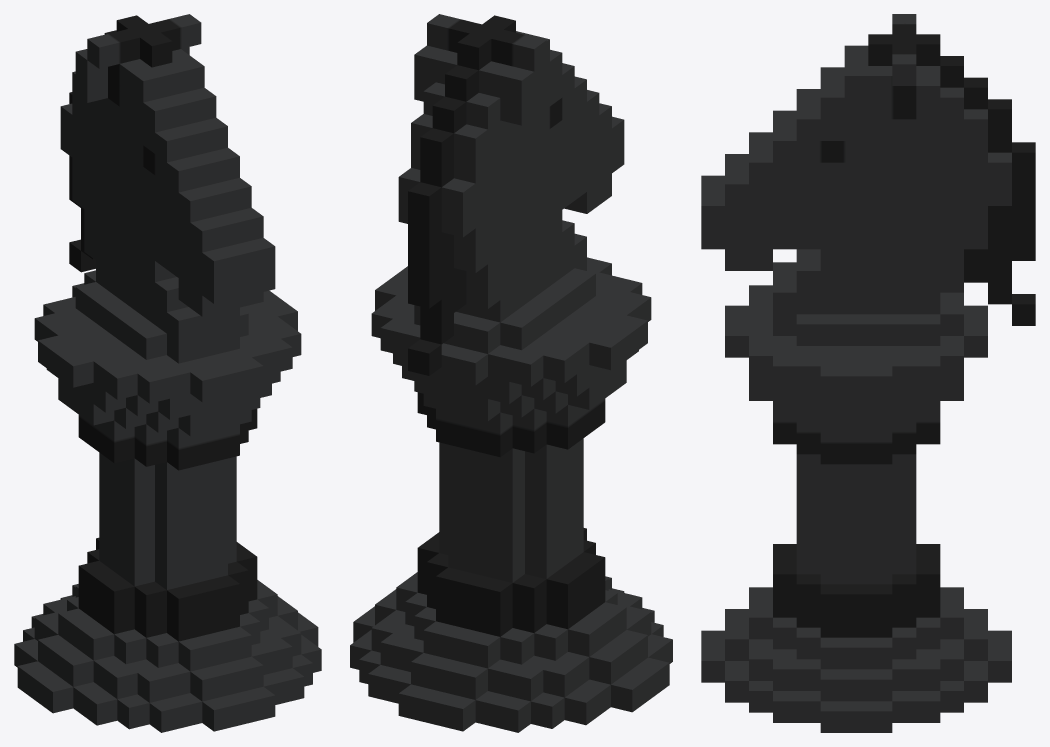
Rendered from blackN.dae.
The picture shows the model from 3 angles, left to right: view 1: azimuth 30°, elevation 25°; view 2: azimuth 150°, elevation 25°; view 3: azimuth 270°, elevation 25°; orthographic projection. The views are drawn at different scales.
Parts seen in each view (by area): view 1: blackN; view 2: blackN; view 3: blackN.
Part boxes in pixels (<box>): blackN: <box>14,14,321,732</box>; blackN: <box>350,14,672,732</box>; blackN: <box>701,14,1035,732</box>.
Bounding box in the file's own units: 13 × 29 × 14.
1 material, 1 textured.
